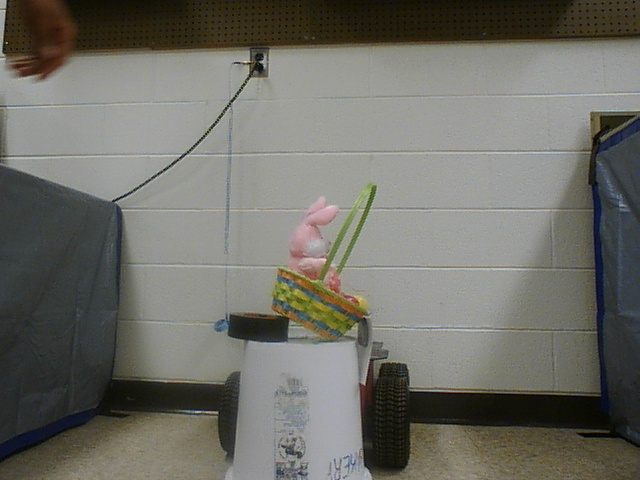bunny: (263, 171, 380, 346)
